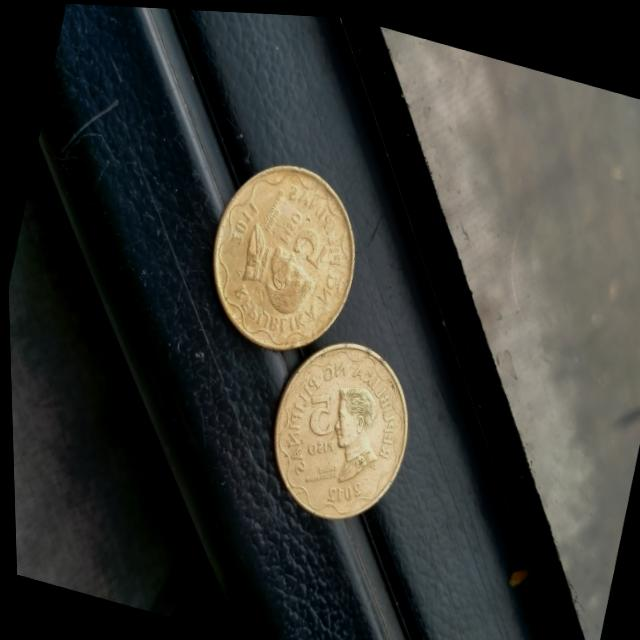5_Old_Front: (256, 191, 338, 281), (285, 368, 358, 466)
